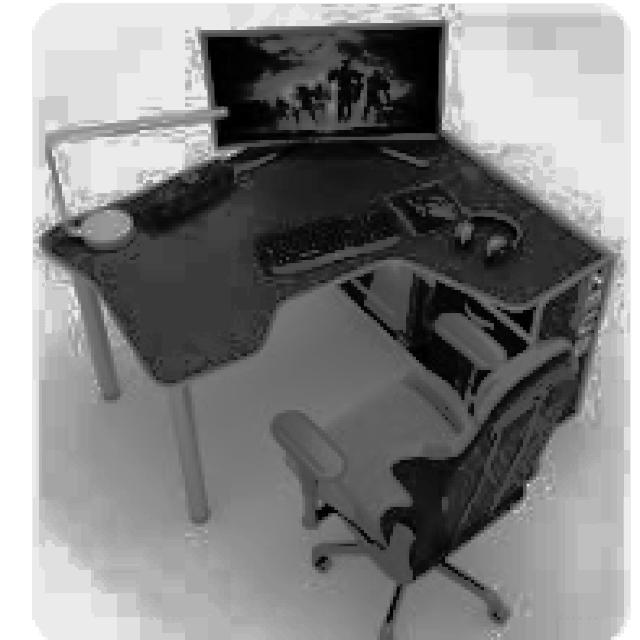book: (270, 320, 578, 637)
table: (39, 107, 614, 523)
